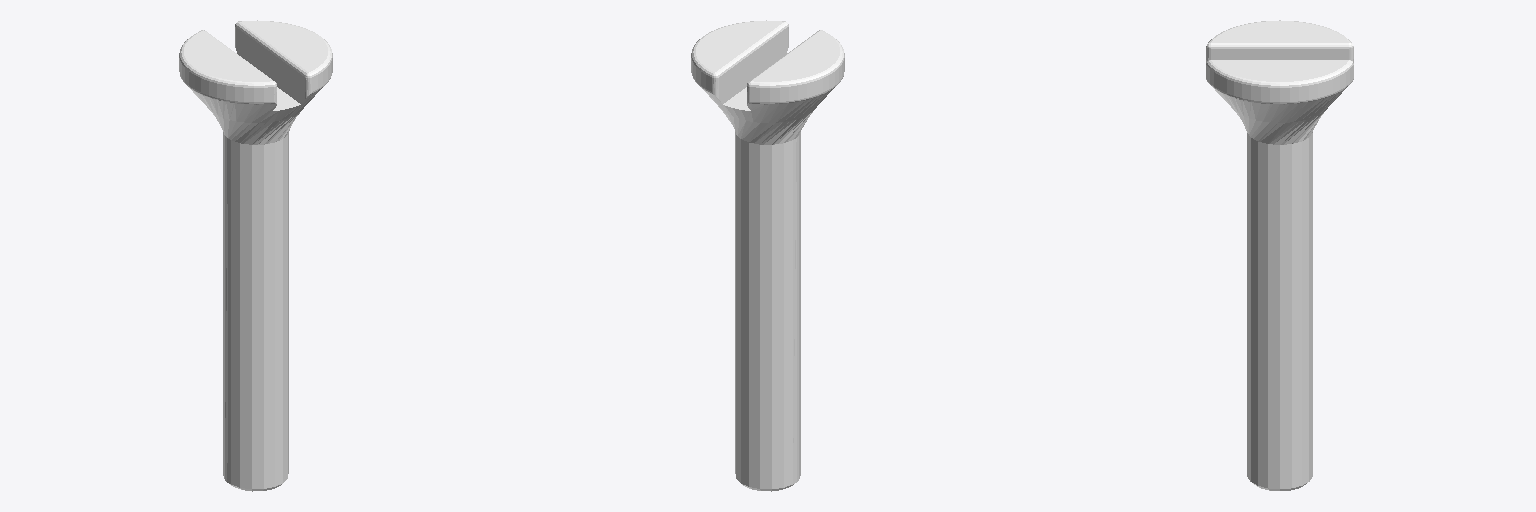
URDF robot description (scew):
<?xml version="1.0" encoding="utf-8"?>
<!-- This URDF was automatically created by SolidWorks to URDF Exporter! Originally created by [author] ([email redacted]) 
     Commit Version: 1.5.1-0-g916b5db  Build Version: 1.5.7152.31018
     For more information, please see http://wiki.ros.org/sw_urdf_exporter -->
<robot
  name="scew">
  <link
    name="scew">
    <inertial>
      <origin
        xyz="-5.17104645936164E-08 4.33155131354729E-09 -0.0404733886693637"
        rpy="0 0 0" />
      <mass
        value="0.033394" />
      <inertia
        ixx="4.7143E-05"
        ixy="-3.8121E-12"
        ixz="3.3617E-11"
        iyy="4.7456E-05"
        iyz="-2.767E-12"
        izz="2.5748E-06" />
    </inertial>
    <visual>
      <origin
        xyz="-4.24029645936164E-08 3.74807131354729E-09 -0.0330277886693637"
        rpy="0 0 0" />
      <geometry>
        <mesh
          filename="package://scew/meshes/scew.STL" />
      </geometry>
      <material
        name="">
        <color
          rgba="1 1 1 1" />
        <texture
          filename="package://scew/textures/" />
      </material>
    </visual>
    <collision>
      <origin
        xyz="-4.24029645936164E-08 3.74807131354729E-09 -0.0330277886693637"
        rpy="0 0 0" />
      <geometry>
        <mesh
          filename="package://scew/meshes/scew.STL" />
      </geometry>
    </collision>
  </link>
</robot>

--- What the picture shows (computed from the rendered views, not written in the file) ---
The picture shows the robot from 3 angles, left to right: view 1: azimuth 30°, elevation 25°; view 2: azimuth 150°, elevation 25°; view 3: azimuth 270°, elevation 25°; orthographic projection.
Model scew with 1 links and 0 joints (none), rooted at scew, posed every joint at zero.
Links seen in each view (by area): view 1: scew; view 2: scew; view 3: scew.
Boxes of the visible links, x1,y1,x2,y2 form: scew: (179, 20, 332, 491); scew: (691, 20, 844, 491); scew: (1206, 20, 1353, 490).
Bounding box of the posed robot: 0.0385 × 0.037 × 0.1183 m (x, y, z).
1 mesh visuals loaded from 1 distinct referenced files (1 binary STL).